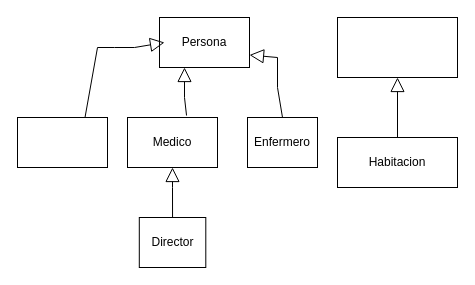
This 475x285 diagram has some shape labels left out. The centre of each missing label's shape, as x and y in pixels:
"Clinica" belongs at pixel 397 47.
"Paciente" belongs at pixel 62 142.
